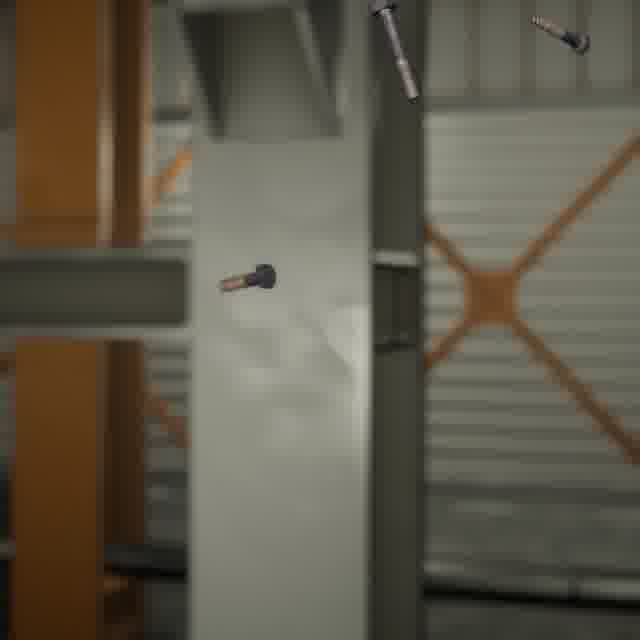bolt: (364, 0, 424, 105), (524, 11, 594, 59), (213, 259, 280, 297)
